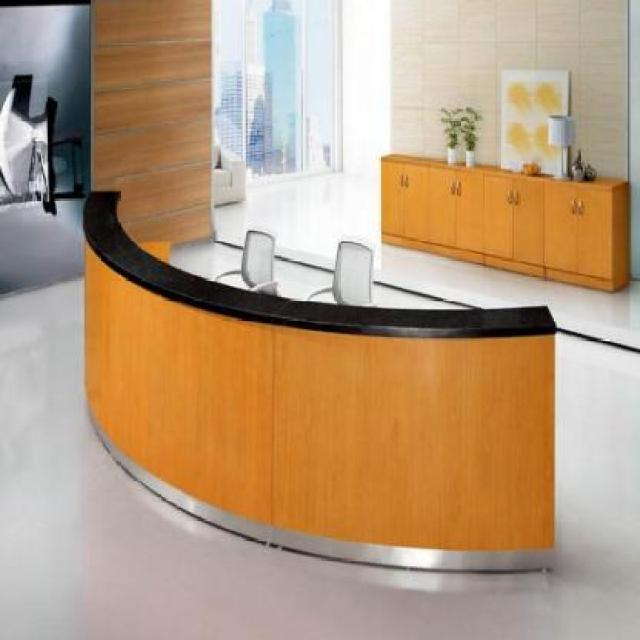frontdesk: (65, 172, 558, 590)
